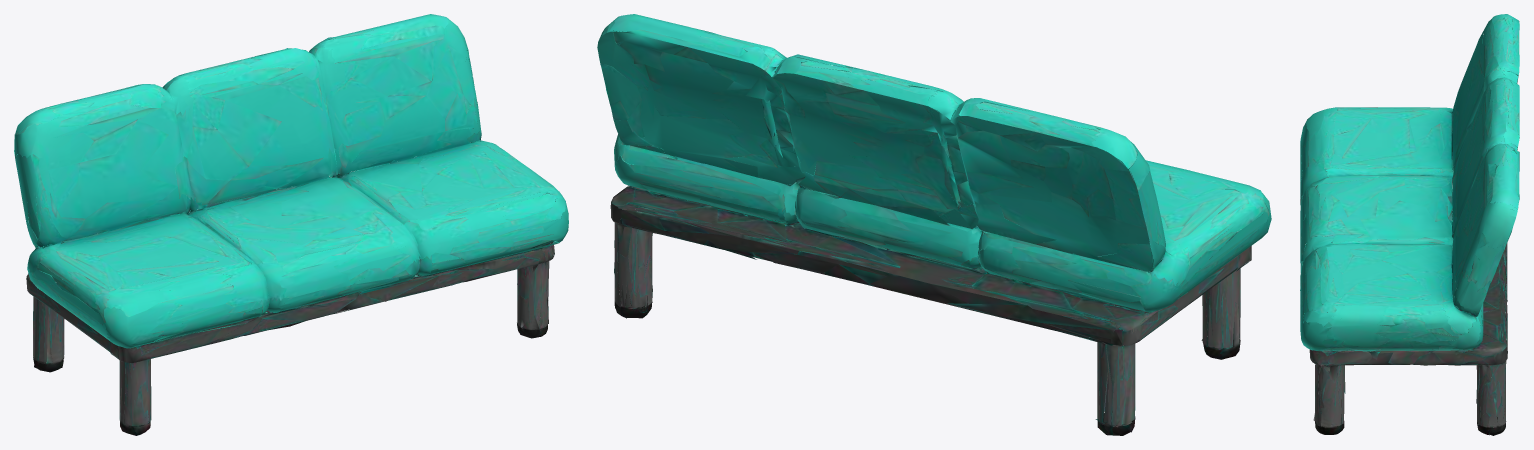
File: bench.glb
3 views of the same model, side by side, from view 1: azimuth 30°, elevation 25°; view 2: azimuth 150°, elevation 25°; view 3: azimuth 270°, elevation 25° (orthographic). The views are drawn at different scales.
Visible parts, largest first — view 1: Mesh_0; view 2: Mesh_0; view 3: Mesh_0.
Part boxes in pixels (box(x1,y1,x2,y2)): Mesh_0: box(14, 14, 568, 435); Mesh_0: box(597, 14, 1271, 435); Mesh_0: box(1300, 14, 1519, 435).
Bounding box in the file's own units: 1.9 × 0.9906 × 0.8323.
1 material, 1 textured.
